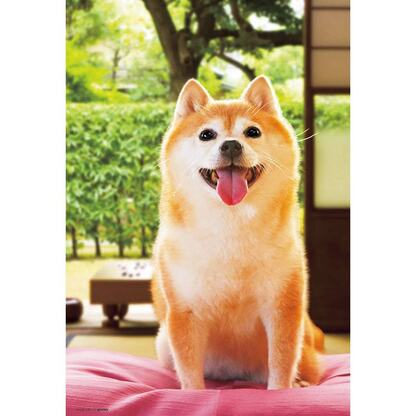shiba: (148, 72, 333, 394)
